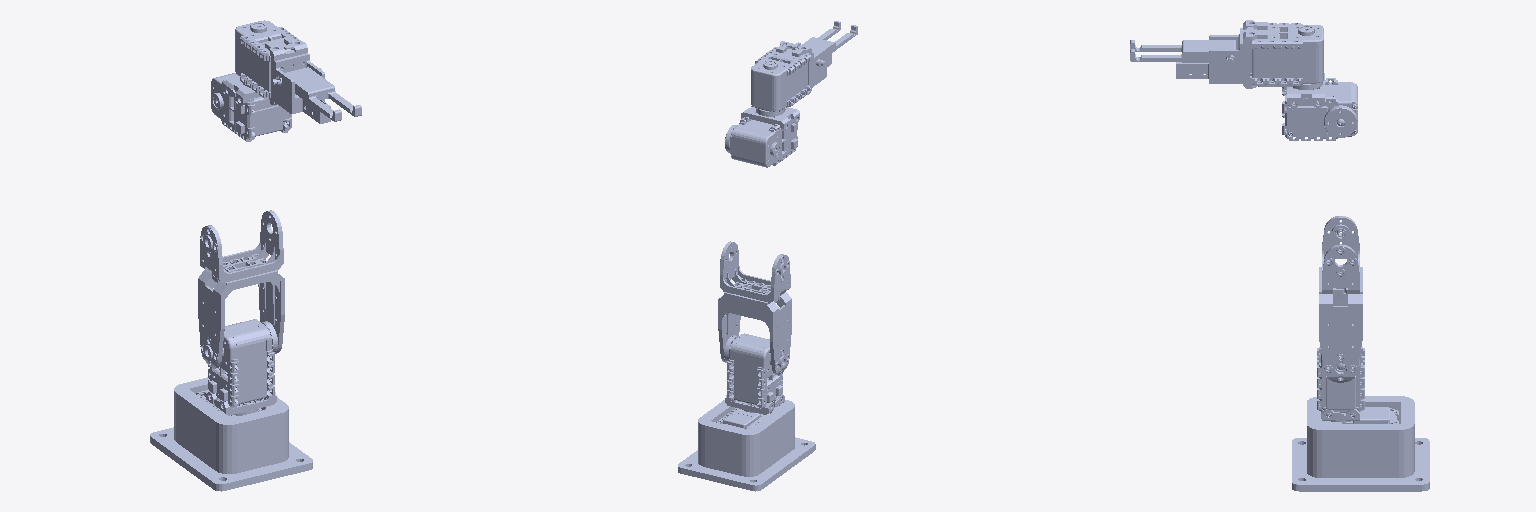
robot.urdf — robot_arm_urdf_v5:
<?xml version="1.0" encoding="utf-8" ?>
<!-- This URDF was automatically created by SolidWorks to URDF Exporter! Originally created by [author] ([email redacted]) 
     Commit Version: 1.6.0-4-g7f85cfe  Build Version: 1.6.7995.38578
     For more information, please see http://wiki.ros.org/sw_urdf_exporter -->
<robot name="robot_arm_urdf_v5">
    <link name="dummy" />
    <joint name="dummy_joint" type="fixed">
        <parent link="dummy" />
        <child link="base_link" />
    </joint>
    <link name="base_link">
        <inertial>
            <origin xyz="2.6390685812204E-07 0.0123548014896462 0.0180317042798397" rpy="0 0 0" />
            <mass value="0.145711251346503" />
            <inertia ixx="8.89769342658515E-05" ixy="-7.51213869489224E-10" ixz="-1.26120262751048E-09" iyy="6.08855228440413E-05" iyz="3.45242515354529E-07" izz="0.000109831670457128" />
        </inertial>
        <visual>
            <origin xyz="0 0 0" rpy="0 0 0" />
            <geometry>
                <mesh filename="package://robot_arm_urdf_v5/meshes/base_link.STL" />
            </geometry>
            <material name="">
                <color rgba="0.792156862745098 0.819607843137255 0.933333333333333 1" />
            </material>
        </visual>
        <collision>
            <origin xyz="0 0 0" rpy="0 0 0" />
            <geometry>
                <mesh filename="package://robot_arm_urdf_v5/meshes/base_link.STL" />
            </geometry>
        </collision>
    </link>
    <link name="link_1">
        <inertial>
            <origin xyz="0.00094127 -2.0573E-06 0.026872" rpy="0 0 0" />
            <mass value="0.046005" />
            <inertia ixx="1.0175E-05" ixy="1.2611E-09" ixz="1.9653E-07" iyy="1.1949E-05" iyz="-6.231E-10" izz="6.9258E-06" />
        </inertial>
        <visual>
            <origin xyz="0 0 0" rpy="0 0 0" />
            <geometry>
                <mesh filename="package://robot_arm_urdf_v5/meshes/link_1.STL" />
            </geometry>
            <material name="">
                <color rgba="0.79216 0.81961 0.93333 1" />
            </material>
        </visual>
        <collision>
            <origin xyz="0 0 0" rpy="0 0 0" />
            <geometry>
                <mesh filename="package://robot_arm_urdf_v5/meshes/link_1.STL" />
            </geometry>
        </collision>
    </link>
    <joint name="joint_1" type="revolute">
        <origin xyz="0 0 0.04188" rpy="0 0 0" />
        <parent link="base_link" />
        <child link="link_1" />
        <axis xyz="0 0 -1" />
        <limit lower="-2.16" upper="2.16" effort="1.5" velocity="3.08" />
    </joint>
    <link name="link_2">
        <inertial>
            <origin xyz="-0.00020674 0.00036306 0.042749" rpy="0 0 0" />
            <mass value="0.021327" />
            <inertia ixx="6.4724E-06" ixy="-8.8958E-12" ixz="2.2787E-11" iyy="1.2466E-05" iyz="-7.9921E-08" izz="8.893E-06" />
        </inertial>
        <visual>
            <origin xyz="0 0 0" rpy="0 0 0" />
            <geometry>
                <mesh filename="package://robot_arm_urdf_v5/meshes/link_2.STL" />
            </geometry>
            <material name="">
                <color rgba="0.79216 0.81961 0.93333 1" />
            </material>
        </visual>
        <collision>
            <origin xyz="0 0 0" rpy="0 0 0" />
            <geometry>
                <mesh filename="package://robot_arm_urdf_v5/meshes/link_2.STL" />
            </geometry>
        </collision>
    </link>
    <joint name="joint_2" type="revolute">
        <origin xyz="-0.00055 0 0.0415" rpy="0 0 0" />
        <parent link="link_1" />
        <child link="link_2" />
        <axis xyz="-1 0 0" />
        <limit lower="-2.16" upper="2.16" effort="1.5" velocity="3.08" />
    </joint>
    <link name="link_3">
        <inertial>
            <origin xyz="0.0010293 -1.2184E-06 0.029737" rpy="0 0 0" />
            <mass value="0.06471" />
            <inertia ixx="1.2833E-05" ixy="6.2331E-13" ixz="-3.2723E-08" iyy="1.6136E-05" iyz="9.8674E-12" izz="1.063E-05" />
        </inertial>
        <visual>
            <origin xyz="0 0 0" rpy="0 0 0" />
            <geometry>
                <mesh filename="package://robot_arm_urdf_v5/meshes/link_3.STL" />
            </geometry>
            <material name="">
                <color rgba="0.79216 0.81961 0.93333 1" />
            </material>
        </visual>
        <collision>
            <origin xyz="0 0 0" rpy="0 0 0" />
            <geometry>
                <mesh filename="package://robot_arm_urdf_v5/meshes/link_3.STL" />
            </geometry>
        </collision>
    </link>
    <joint name="joint_3" type="revolute">
        <origin xyz="0 0 0.078" rpy="0 0 0" />
        <parent link="link_2" />
        <child link="link_3" />
        <axis xyz="1 0 0" />
        <limit lower="-2.16" upper="2.16" effort="1.5" velocity="3.08" />
    </joint>
    <link name="link_4">
        <inertial>
            <origin xyz="0.0014758 -0.013313 0.001152" rpy="0 0 0" />
            <mass value="0.046211" />
            <inertia ixx="1.0173E-05" ixy="3.2723E-08" ixz="6.3535E-13" iyy="4.0373E-06" iyz="1.1826E-10" izz="9.3659E-06" />
        </inertial>
        <visual>
            <origin xyz="0 0 0" rpy="0 0 0" />
            <geometry>
                <mesh filename="package://robot_arm_urdf_v5/meshes/link_4.STL" />
            </geometry>
            <material name="">
                <color rgba="0.79216 0.81961 0.93333 1" />
            </material>
        </visual>
        <collision>
            <origin xyz="0 0 0" rpy="0 0 0" />
            <geometry>
                <mesh filename="package://robot_arm_urdf_v5/meshes/link_4.STL" />
            </geometry>
        </collision>
    </link>
    <joint name="joint_4" type="revolute">
        <origin xyz="-0.0002 0 0.099" rpy="0 0 0" />
        <parent link="link_3" />
        <child link="link_4" />
        <axis xyz="1 0 0" />
        <limit lower="-2.16" upper="2.16" effort="1.5" velocity="3.08" />
    </joint>
    <link name="link_5">
        <inertial>
            <origin xyz="-0.00039878 -0.014449 2.6744E-05" rpy="0 0 0" />
            <mass value="0.046211" />
            <inertia ixx="9.1858E-06" ixy="-1.3794E-10" ixz="-6.3535E-13" iyy="4.2174E-06" iyz="-3.2723E-08" izz="1.0173E-05" />
        </inertial>
        <visual>
            <origin xyz="0 0 0" rpy="0 0 0" />
            <geometry>
                <mesh filename="package://robot_arm_urdf_v5/meshes/link_5.STL" />
            </geometry>
            <material name="">
                <color rgba="0.79216 0.81961 0.93333 1" />
            </material>
        </visual>
        <collision>
            <origin xyz="0 0 0" rpy="0 0 0" />
            <geometry>
                <mesh filename="package://robot_arm_urdf_v5/meshes/link_5.STL" />
            </geometry>
        </collision>
    </link>
    <joint name="joint_5" type="revolute">
        <origin xyz="0.00075 -0.02275 0.038847" rpy="0 0 0" />
        <parent link="link_4" />
        <child link="link_5" />
        <axis xyz="0 0 -1" />
        <limit lower="-2.16" upper="2.16" effort="1.5" velocity="3.08" />
    </joint>
    <link name="end_effector">
        <inertial>
            <origin xyz="-0.00049601 0.055599 -0.0057212" rpy="0 0 0" />
            <mass value="0.015025" />
            <inertia ixx="2.902E-06" ixy="5.4372E-13" ixz="-6.8439E-13" iyy="1.2023E-06" iyz="-1.9324E-07" izz="3.2635E-06" />
        </inertial>
        <visual>
            <origin xyz="0 0 0" rpy="0 0 0" />
            <geometry>
                <mesh filename="package://robot_arm_urdf_v5/meshes/end_effector.STL" />
            </geometry>
            <material name="">
                <color rgba="0.79216 0.81961 0.93333 1" />
            </material>
        </visual>
        <collision>
            <origin xyz="0 0 0" rpy="0 0 0" />
            <geometry>
                <mesh filename="package://robot_arm_urdf_v5/meshes/end_effector.STL" />
            </geometry>
        </collision>
    </link>
    <joint name="joint_6" type="fixed">
        <origin xyz="0 -0.11598 0.0038545" rpy="0 0 0" />
        <parent link="link_5" />
        <child link="end_effector" />
        <axis xyz="0 0 0" />
    </joint>
    <transmission name="trans_joint_1">
        <type>transmission_interface/SimpleTransmission</type>
        <joint name="joint_1">
            <hardwareInterface>hardware_interface/PositionJointInterface</hardwareInterface>
        </joint>
        <actuator name="joint_1_motor">
            <hardwareInterface>hardware_interface/PositionJointInterface</hardwareInterface>
            <mechanicalReduction>1</mechanicalReduction>
        </actuator>
    </transmission>
    <transmission name="trans_joint_2">
        <type>transmission_interface/SimpleTransmission</type>
        <joint name="joint_2">
            <hardwareInterface>hardware_interface/PositionJointInterface</hardwareInterface>
        </joint>
        <actuator name="joint_2_motor">
            <hardwareInterface>hardware_interface/PositionJointInterface</hardwareInterface>
            <mechanicalReduction>1</mechanicalReduction>
        </actuator>
    </transmission>
    <transmission name="trans_joint_3">
        <type>transmission_interface/SimpleTransmission</type>
        <joint name="joint_3">
            <hardwareInterface>hardware_interface/PositionJointInterface</hardwareInterface>
        </joint>
        <actuator name="joint_3_motor">
            <hardwareInterface>hardware_interface/PositionJointInterface</hardwareInterface>
            <mechanicalReduction>1</mechanicalReduction>
        </actuator>
    </transmission>
    <transmission name="trans_joint_4">
        <type>transmission_interface/SimpleTransmission</type>
        <joint name="joint_4">
            <hardwareInterface>hardware_interface/PositionJointInterface</hardwareInterface>
        </joint>
        <actuator name="joint_4_motor">
            <hardwareInterface>hardware_interface/PositionJointInterface</hardwareInterface>
            <mechanicalReduction>1</mechanicalReduction>
        </actuator>
    </transmission>
    <transmission name="trans_joint_5">
        <type>transmission_interface/SimpleTransmission</type>
        <joint name="joint_5">
            <hardwareInterface>hardware_interface/PositionJointInterface</hardwareInterface>
        </joint>
        <actuator name="joint_5_motor">
            <hardwareInterface>hardware_interface/PositionJointInterface</hardwareInterface>
            <mechanicalReduction>1</mechanicalReduction>
        </actuator>
    </transmission>
    <gazebo>
        <plugin name="gazebo_ros_control">
            <robotNamespace>/</robotNamespace>
        </plugin>
    </gazebo>
</robot>

--- Render facts (derived) ---
The picture shows the robot from 3 angles, left to right: view 1: azimuth 30°, elevation 25°; view 2: azimuth 150°, elevation 25°; view 3: azimuth 270°, elevation 25°; orthographic projection.
Robot: robot_arm_urdf_v5 — 8 links, 7 joints (5 revolute, 2 fixed); root link dummy; default pose: every joint at zero.
Visible links, largest first — view 1: base_link, link_2, link_1, end_effector, link_5, link_4; view 2: base_link, link_2, link_1, link_5, link_4, end_effector; view 3: base_link, link_2, link_5, link_4, end_effector, link_1.
Link boxes in pixels (bbox=[...]): base_link: bbox=[150, 377, 312, 491]; link_2: bbox=[198, 210, 284, 368]; link_1: bbox=[206, 319, 277, 415]; end_effector: bbox=[271, 53, 361, 123]; link_5: bbox=[235, 20, 307, 104]; link_4: bbox=[211, 73, 291, 141]; base_link: bbox=[678, 400, 815, 491]; link_2: bbox=[718, 241, 791, 374]; link_1: bbox=[724, 333, 784, 414]; link_5: bbox=[751, 41, 811, 116]; link_4: bbox=[725, 106, 799, 167]; end_effector: bbox=[796, 21, 857, 87]; base_link: bbox=[1292, 396, 1429, 491]; link_2: bbox=[1319, 216, 1362, 382]; link_5: bbox=[1243, 20, 1323, 89]; link_4: bbox=[1282, 73, 1357, 140]; end_effector: bbox=[1130, 28, 1242, 83]; link_1: bbox=[1317, 347, 1364, 420].
Size in the robot's own frame: 0.073 by 0.1972 by 0.3194 metres.
6 mesh visuals loaded from 7 distinct referenced files (6 binary STL); not drawn: 1 (reference not matched to a file when rendering).